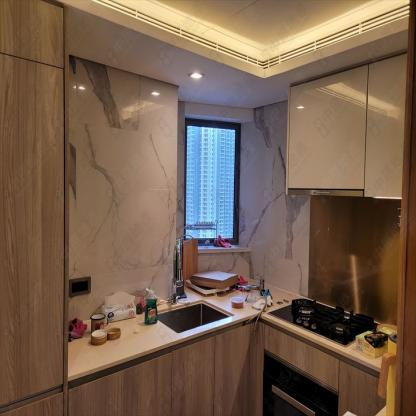Cupboard: (284, 52, 406, 196)
Exhaust Hood: (288, 189, 362, 196)
Faucet: (173, 242, 183, 301)
Oven: (262, 350, 339, 415)
Sink: (157, 299, 233, 332)
Stove: (266, 297, 379, 346)
